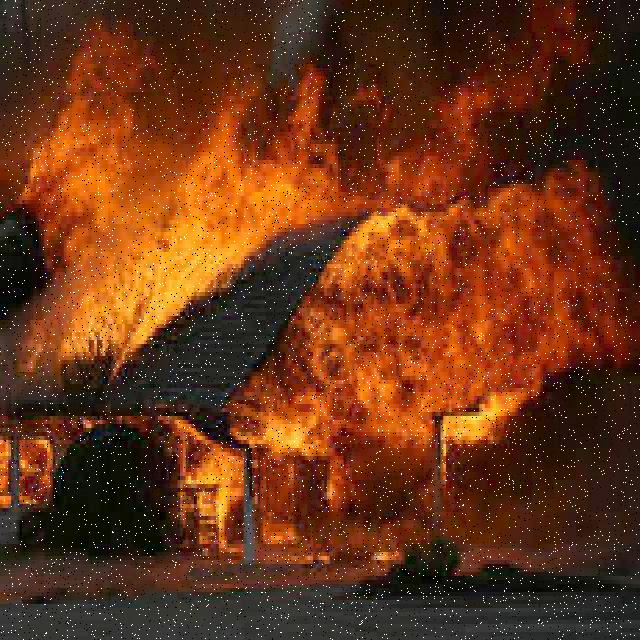fire: (38, 65, 286, 367), (334, 182, 534, 501)
